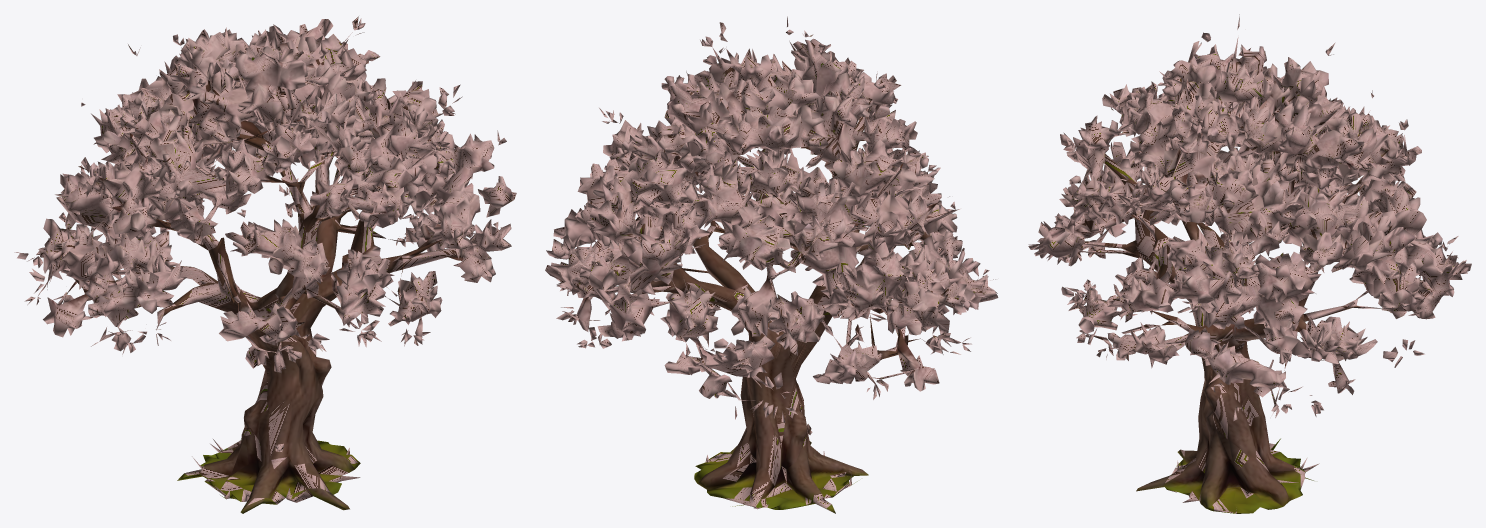
The model's file is cherry.glb.
The picture shows the model from 3 angles, left to right: view 1: azimuth 30°, elevation 25°; view 2: azimuth 150°, elevation 25°; view 3: azimuth 270°, elevation 25°; orthographic projection. The views are drawn at different scales.
Parts seen in each view (by area): view 1: tripo_node_876d39c6-4d19-4885-b50f-babfc8e96826; view 2: tripo_node_876d39c6-4d19-4885-b50f-babfc8e96826; view 3: tripo_node_876d39c6-4d19-4885-b50f-babfc8e96826.
Part boxes in pixels (x1,y1,x2,y2): tripo_node_876d39c6-4d19-4885-b50f-babfc8e96826: [14, 16, 516, 513]; tripo_node_876d39c6-4d19-4885-b50f-babfc8e96826: [545, 16, 998, 513]; tripo_node_876d39c6-4d19-4885-b50f-babfc8e96826: [1028, 14, 1471, 513].
Size of the model in its own units: 0.9698 by 0.9019 by 0.8459.
Materials: 1 (1 with a texture image).
